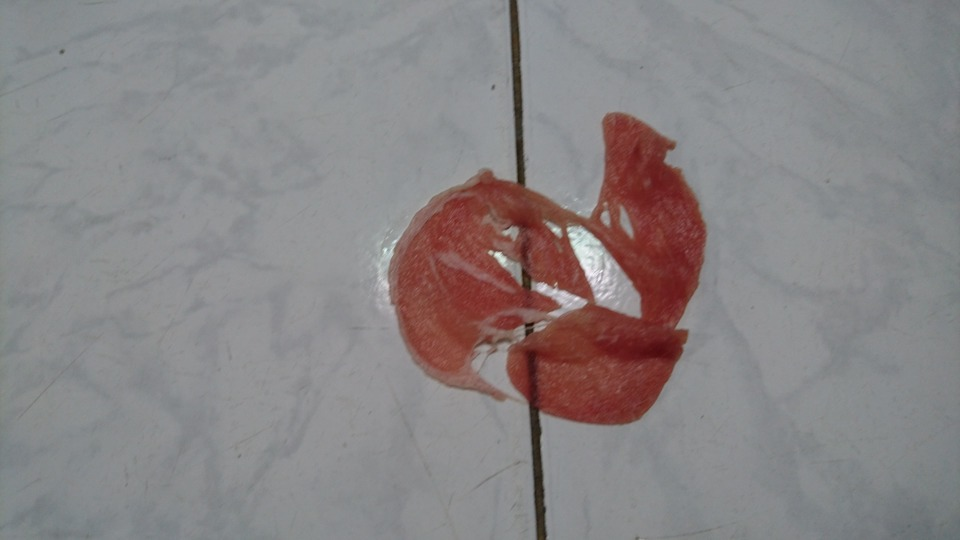restructured meat: (381, 108, 710, 426)
